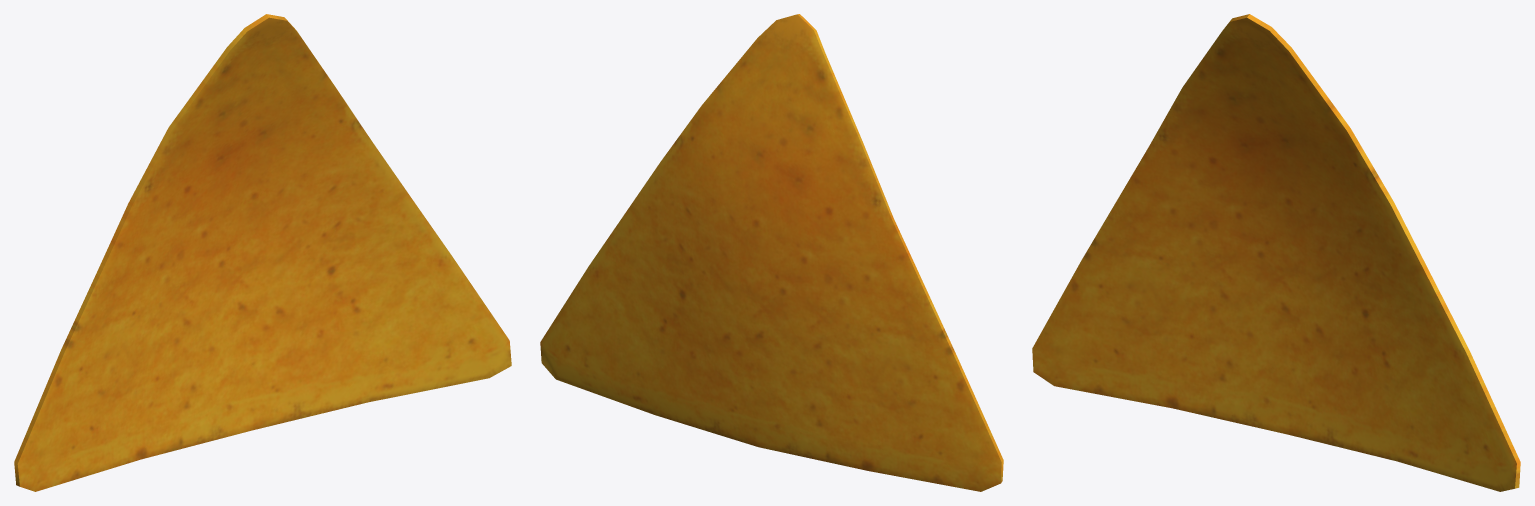
File: NachosChip_1.fbx
3 renders of one model, left to right at view 1: azimuth 30°, elevation 25°; view 2: azimuth 150°, elevation 25°; view 3: azimuth 330°, elevation 25°, orthographic. The views are drawn at different scales.
Parts seen in each view (by area): view 1: NachosChip_1; view 2: NachosChip_1; view 3: NachosChip_1.
Boxes of the visible parts, bbox=[...] form: NachosChip_1: bbox=[14, 14, 511, 491]; NachosChip_1: bbox=[540, 14, 1003, 491]; NachosChip_1: bbox=[1032, 14, 1520, 491].
Bounding box in the file's own units: 0.0448 × 0.0383 × 0.00592.
1 material, 1 textured.
